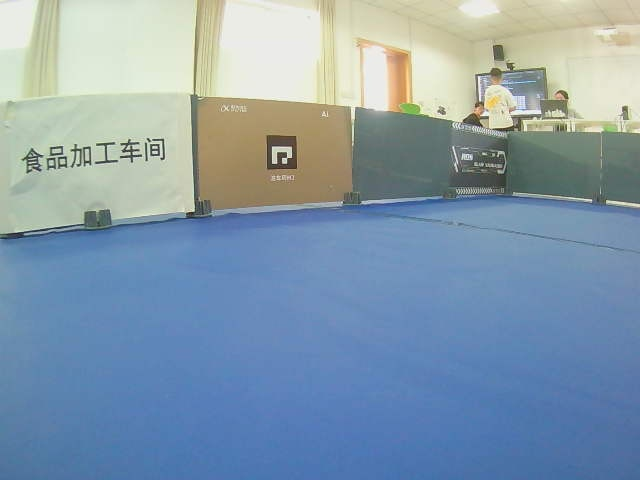target: (21, 136, 166, 174)
